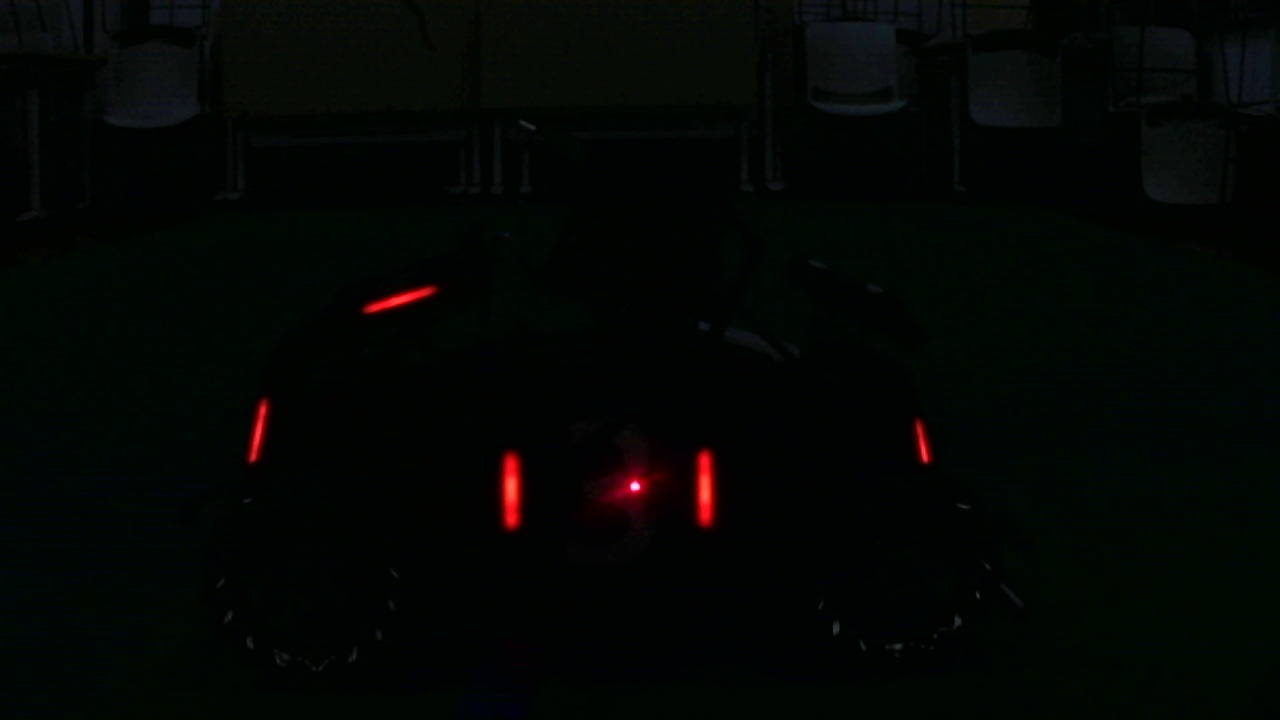lamp: (687, 441, 717, 533), (244, 389, 273, 462), (504, 445, 525, 536), (916, 412, 930, 464)
notpair1: (242, 403, 524, 539), (692, 418, 933, 527)
pair1: (502, 448, 715, 537)
